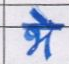e_matra: (30, 8, 51, 23)
